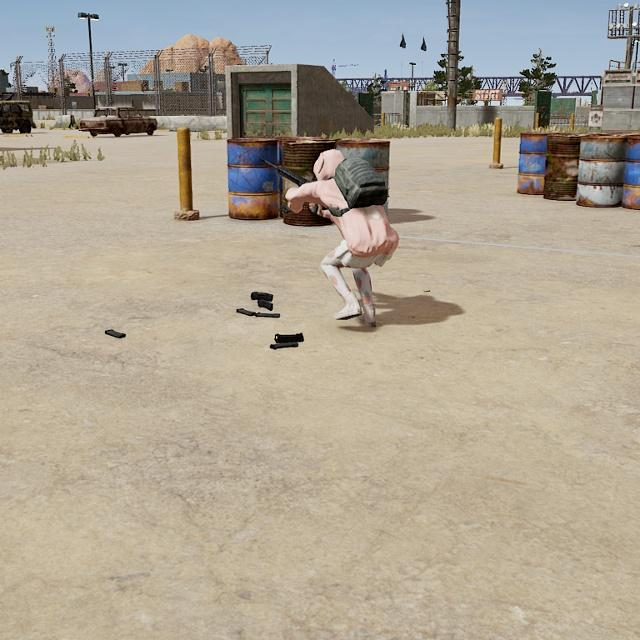head: (309, 148, 347, 181)
people: (284, 148, 398, 331)
